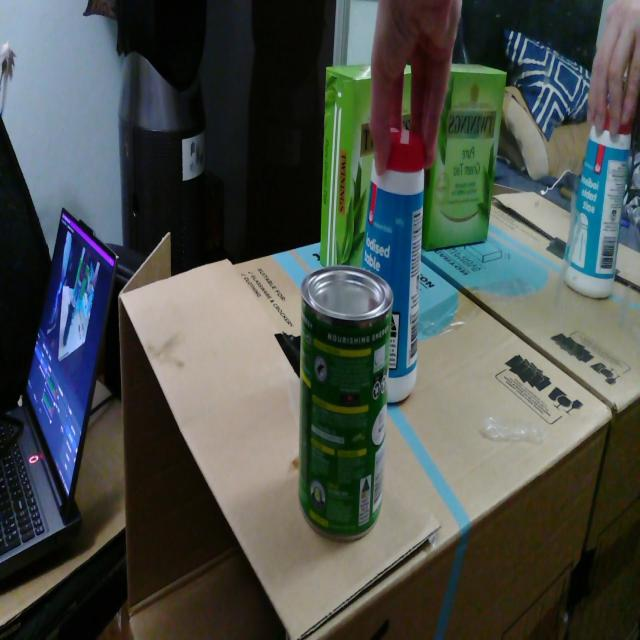nestle_milo_tin: (299, 265, 393, 541)
twinings_greentea_box: (320, 65, 374, 268), (403, 65, 411, 130)
woolworths_salt_bottle: (362, 128, 425, 402)
